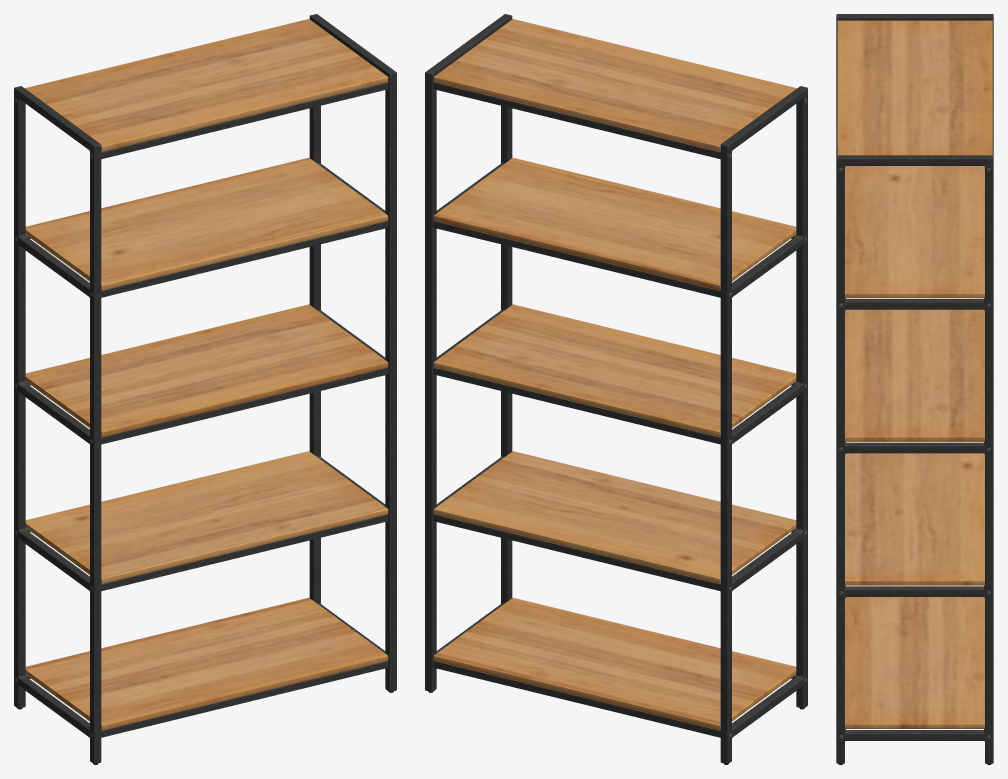
File: shelves.glb
The picture shows the model from 3 angles, left to right: view 1: azimuth 30°, elevation 25°; view 2: azimuth 150°, elevation 25°; view 3: azimuth 270°, elevation 25°; orthographic projection. The views are drawn at different scales.
Size of the model in its own units: 10.97 by 21.41 by 5.02.
1 material, 1 textured.
